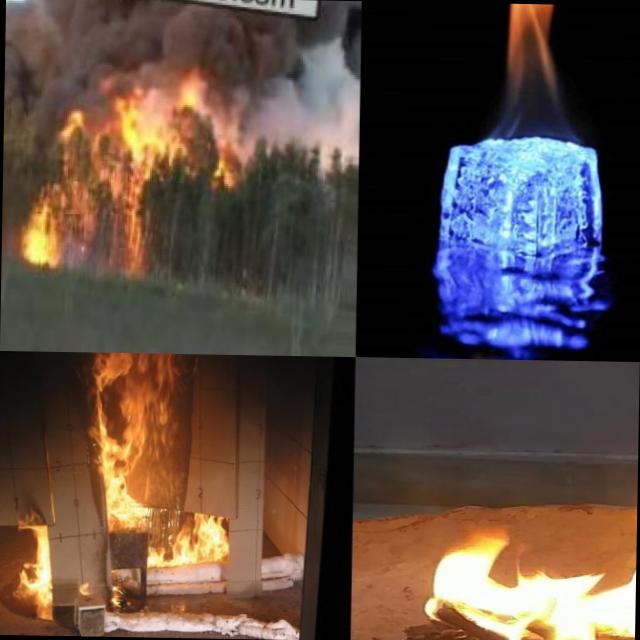fire: (397, 377, 639, 640), (80, 353, 233, 568), (483, 3, 582, 158), (12, 508, 54, 620), (192, 88, 240, 185), (107, 87, 166, 164), (18, 194, 62, 269), (52, 102, 87, 150)
smoke: (4, 5, 243, 88), (240, 24, 361, 148)
